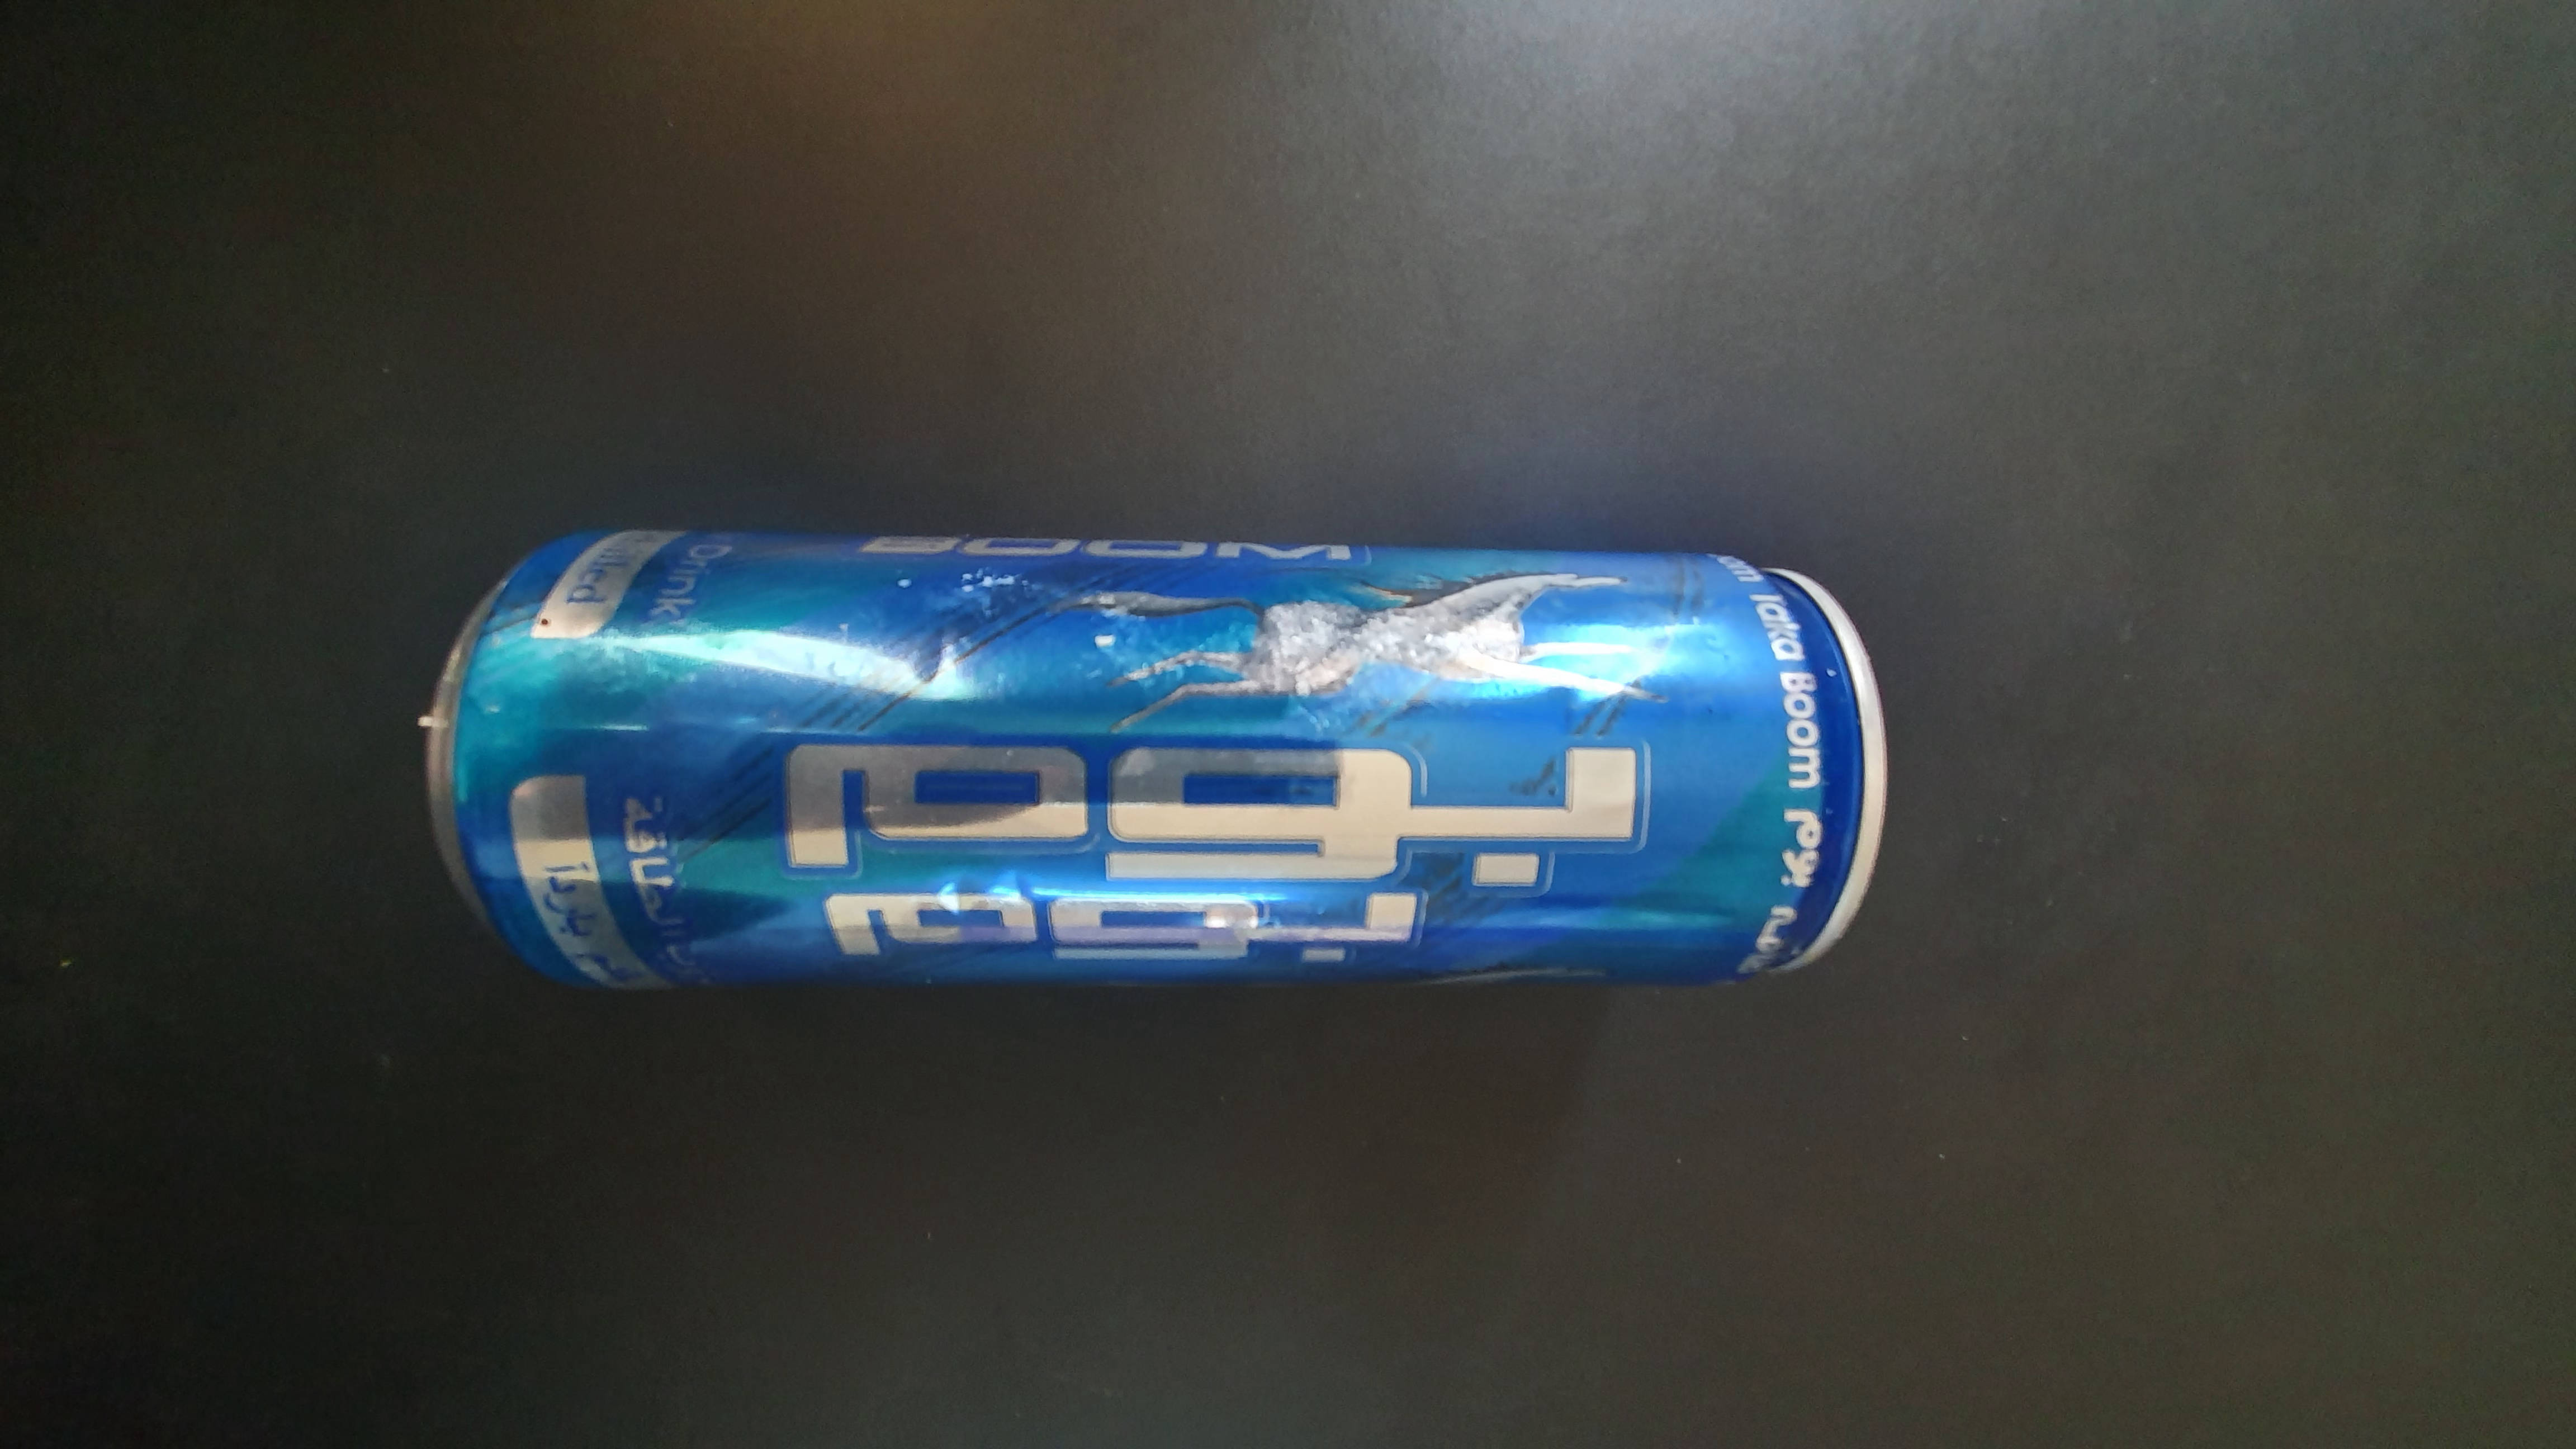metal: (327, 451, 1921, 1067)
